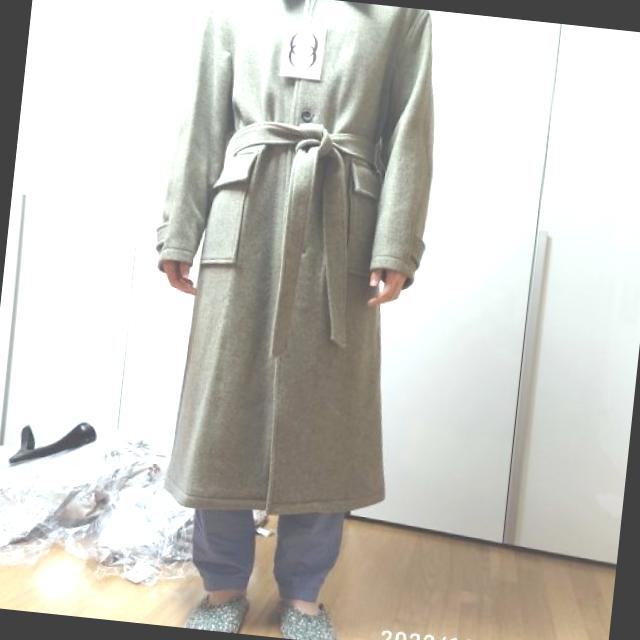coat: (127, 0, 449, 530)
